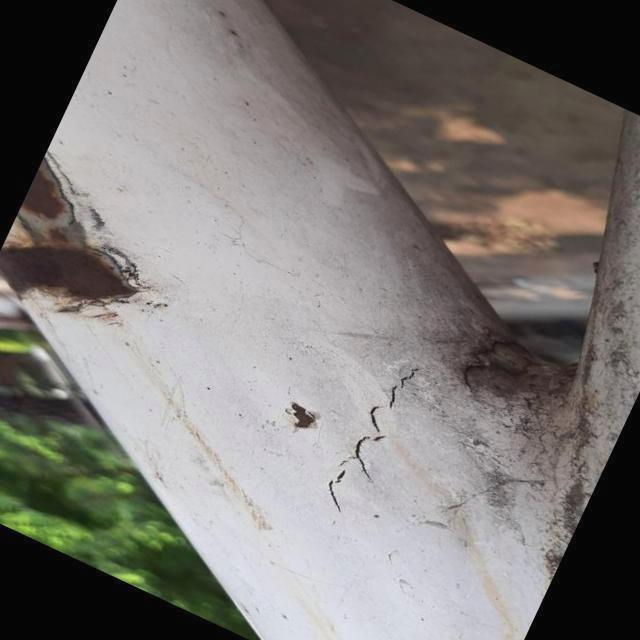defect: (322, 360, 420, 518)
